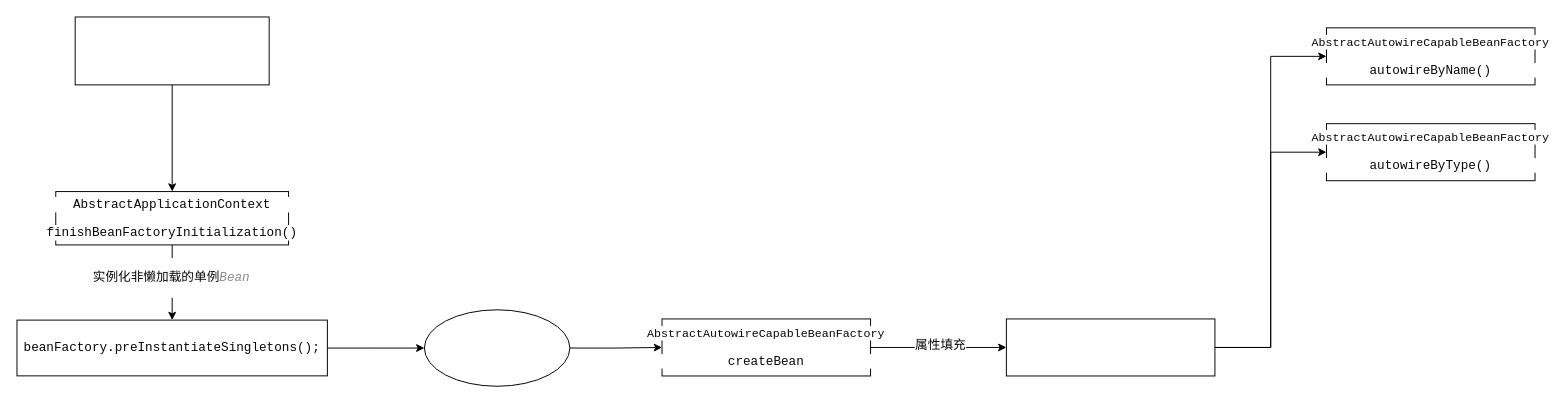
Image size: 1567x404. Some labels were removed from this diagram. Here are the shapes that lost their labels. From the top down, the centre of each, then its label:
point (171, 50): AbstractApplicationContext refresh()
point (496, 347): getBean(beanName);
point (1110, 347): AbstractAutowireCapableBeanFactory populateBean
